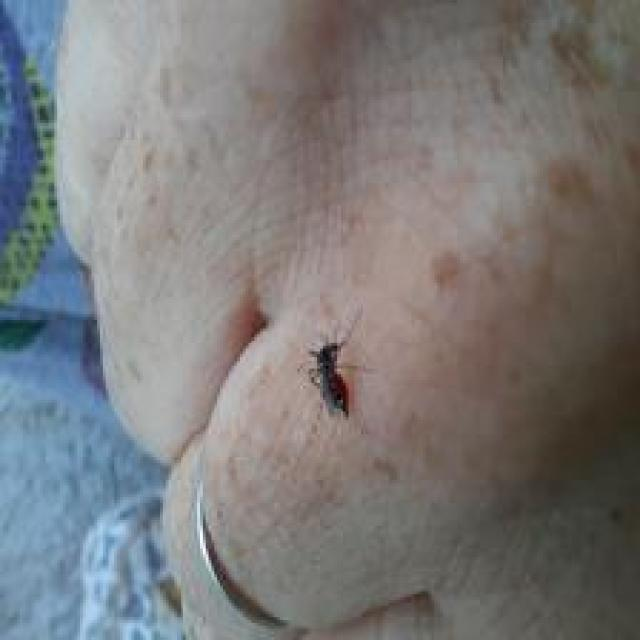Aedes albopictus: (299, 304, 370, 419)
